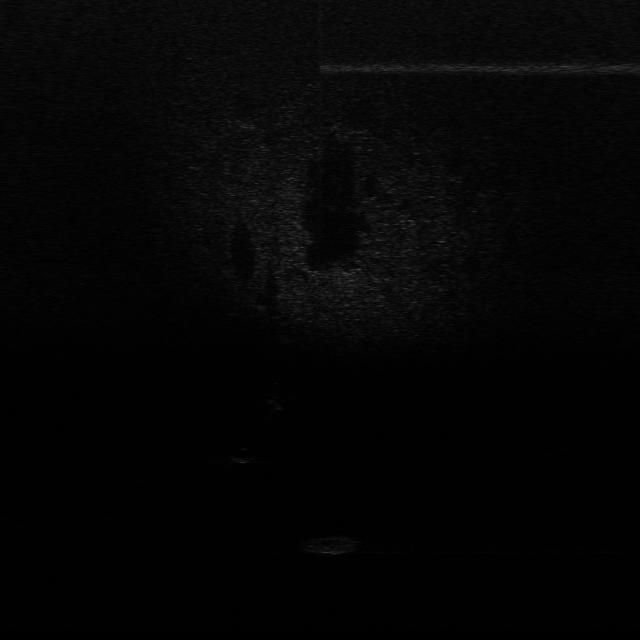ball: (230, 447, 254, 466)
circle cage: (301, 533, 367, 554)
human body: (264, 376, 288, 423)
